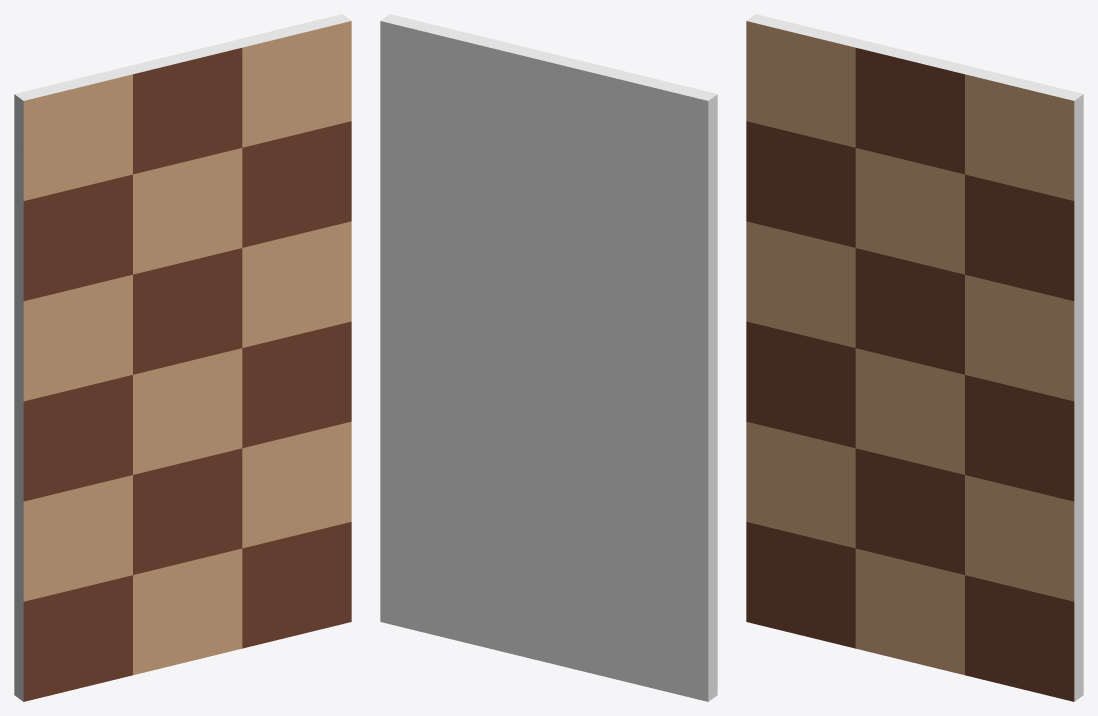
Rendered from Prop_Wall_05.fbx.
The picture shows the model from 3 angles, left to right: view 1: azimuth 30°, elevation 25°; view 2: azimuth 150°, elevation 25°; view 3: azimuth 330°, elevation 25°; orthographic projection.
Parts seen in each view (by area): view 1: Prop_Wall_05; view 2: Prop_Wall_05; view 3: Prop_Wall_05.
Part boxes in pixels (x1=…): Prop_Wall_05: x1=14, y1=14, x2=351, y2=701; Prop_Wall_05: x1=380, y1=14, x2=717, y2=701; Prop_Wall_05: x1=746, y1=14, x2=1083, y2=701.
Bounding box in the file's own units: 200 × 350 × 10.
